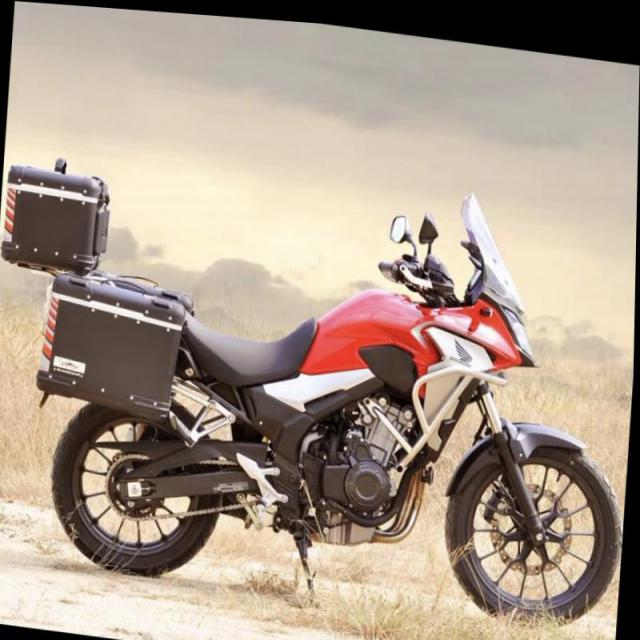CB500X: (0, 130, 637, 630)
